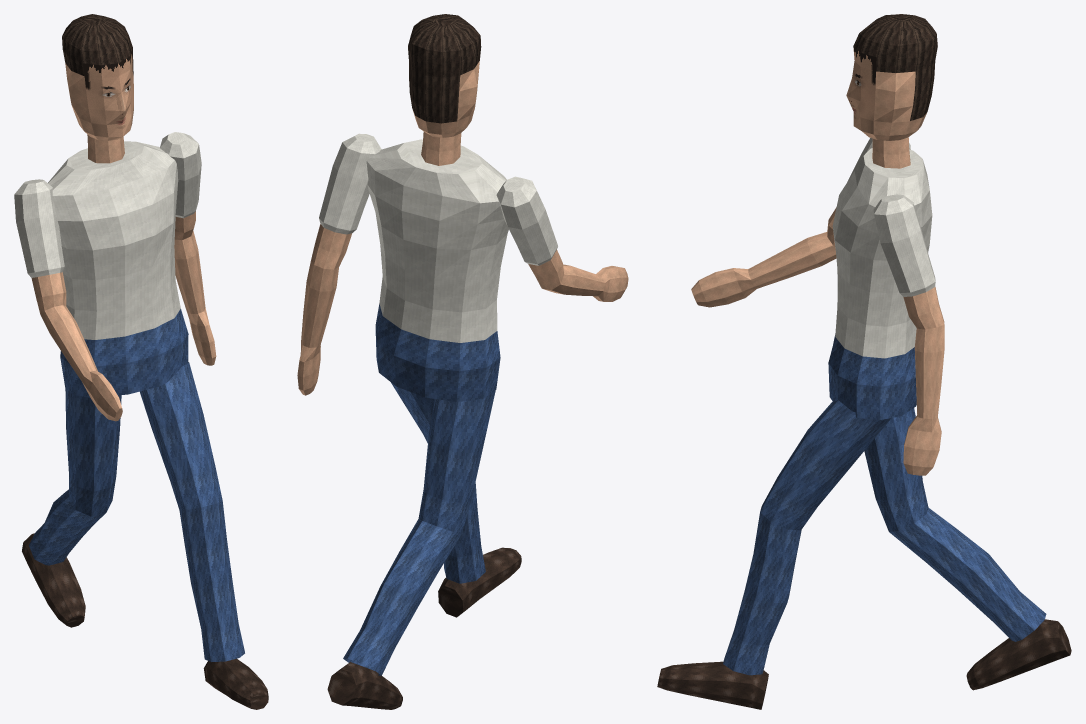
Rendered from walk_06.obj.
The picture shows the model from 3 angles, left to right: view 1: azimuth 30°, elevation 25°; view 2: azimuth 150°, elevation 25°; view 3: azimuth 270°, elevation 25°; orthographic projection. The views are drawn at different scales.
Bounding box in the file's own units: 0.6208 × 1.79 × 1.01.
Materials: 25 (25 with a texture image).
